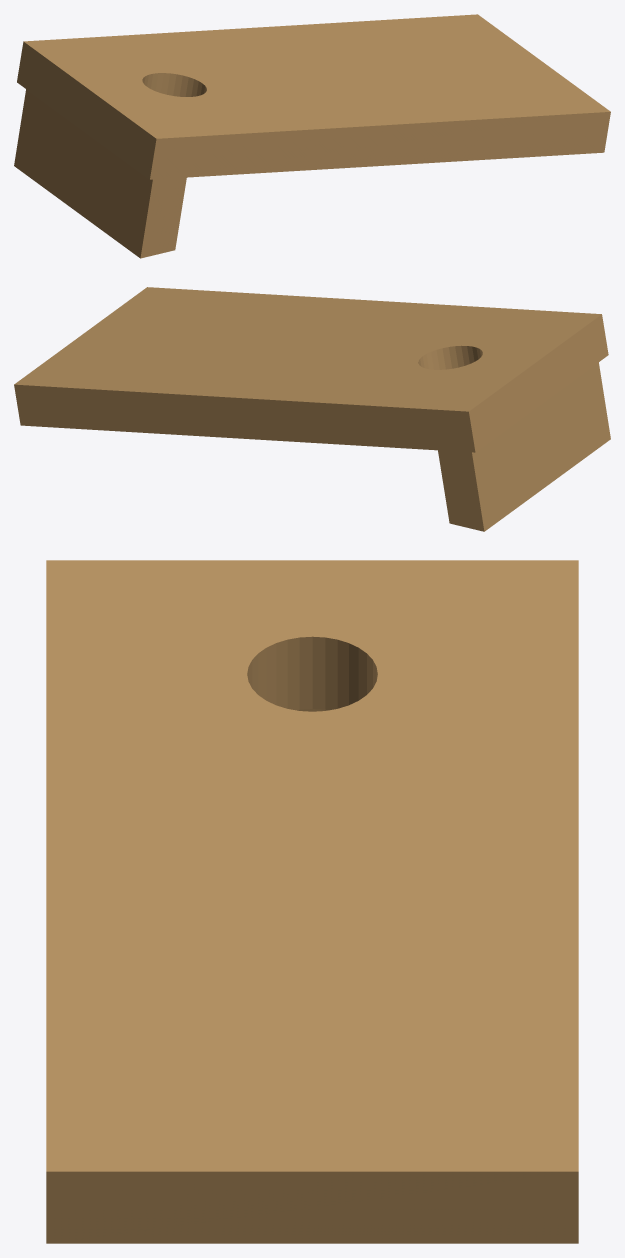
File: Board.glb
The picture shows the model from 3 angles, top to bottom: view 1: azimuth 30°, elevation 25°; view 2: azimuth 150°, elevation 25°; view 3: azimuth 270°, elevation 25°; orthographic projection. The views are drawn at different scales.
Visible parts, largest first — view 1: Board; view 2: Board; view 3: Board.
Part boxes in pixels (x1,y1,x2,y2): Board: (14,14,610,258); Board: (14,287,610,531); Board: (46,560,578,1243).
Size of the model in its own units: 6.12 by 1.54 by 3.02.
